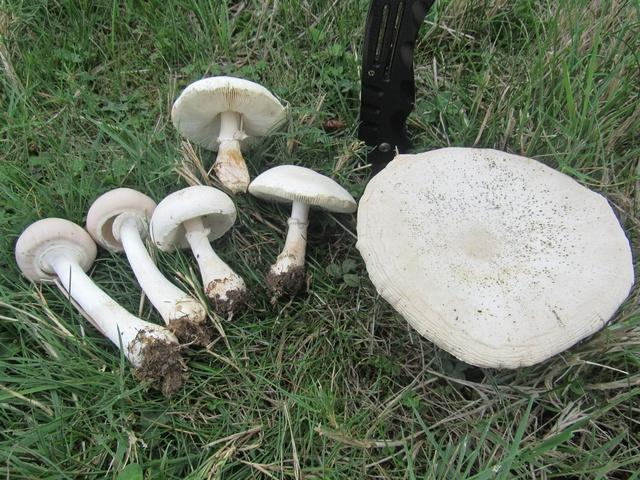Non-edible Mushroom: (354, 145, 634, 370), (13, 216, 185, 387), (247, 163, 357, 298), (169, 74, 288, 194), (148, 184, 246, 319)
